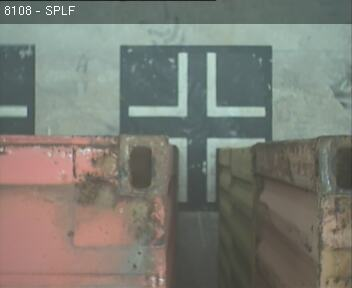groundmarker_1: (127, 53, 267, 116), (168, 137, 264, 201)
